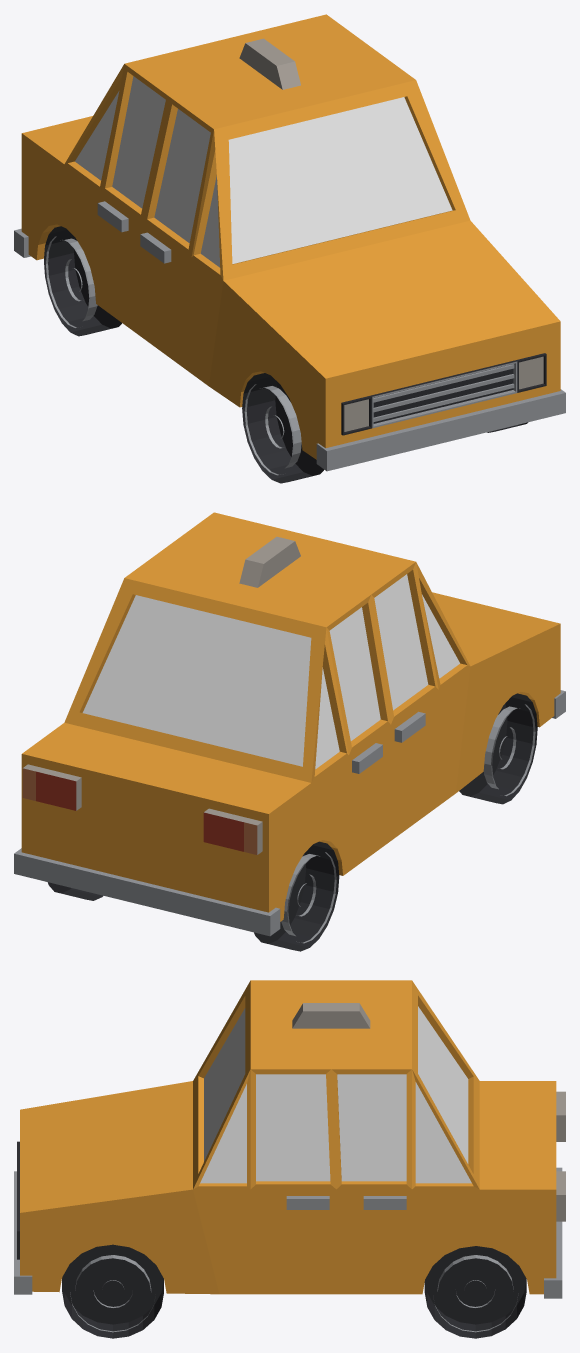
The model's file is SM_car_05.gltf.
3 renders of one model, top to bottom at view 1: azimuth 30°, elevation 25°; view 2: azimuth 150°, elevation 25°; view 3: azimuth 270°, elevation 25°, orthographic. The views are drawn at different scales.
Visible parts, largest first — view 1: SM_car_05, wheel_19, wheel_20; view 2: SM_car_05, wheel_19, wheel_20; view 3: SM_car_05, wheel_17, wheel_18.
Boxes of the visible parts, <box> form: SM_car_05: <box>14,14,565,471</box>; wheel_19: <box>242,373,324,483</box>; wheel_20: <box>44,226,121,336</box>; SM_car_05: <box>14,512,565,936</box>; wheel_19: <box>459,693,537,804</box>; wheel_20: <box>254,841,339,951</box>; SM_car_05: <box>14,980,565,1298</box>; wheel_17: <box>62,1244,163,1338</box>; wheel_18: <box>424,1246,526,1338</box>.
Size of the model in its own units: 0.777 by 0.8792 by 1.58.
